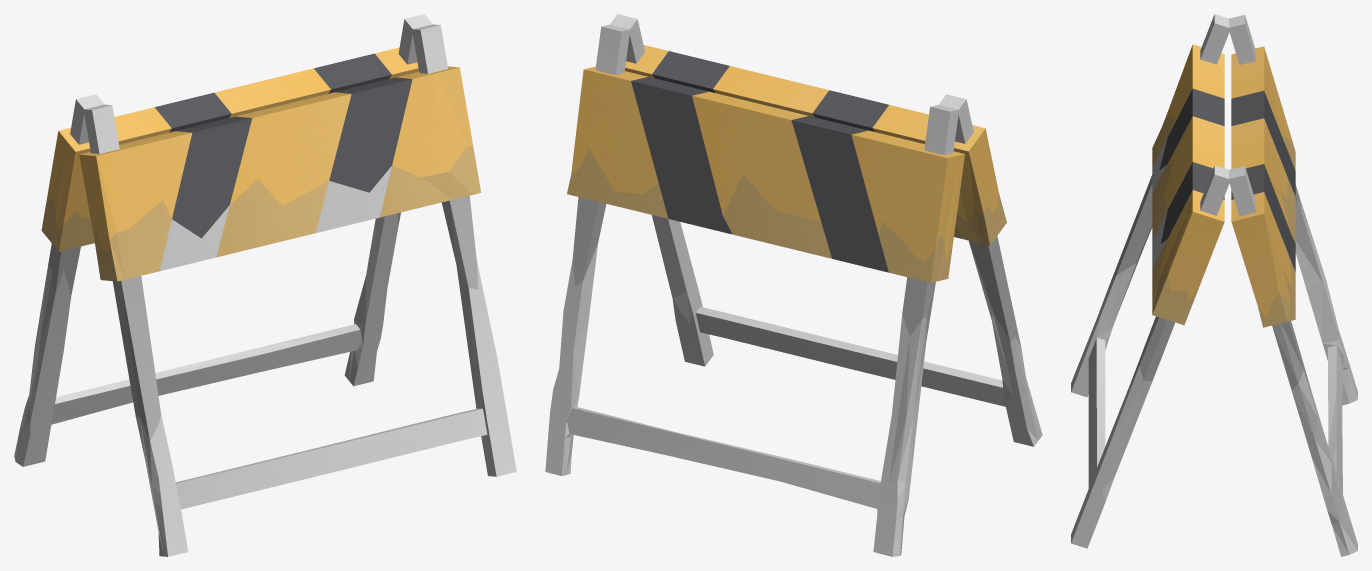
Rendered from roadbarrier1.glb.
3 views of the same model, side by side, from view 1: azimuth 30°, elevation 25°; view 2: azimuth 150°, elevation 25°; view 3: azimuth 270°, elevation 25° (orthographic). The views are drawn at different scales.
Parts seen in each view (by area): view 1: road_barrier_1; view 2: road_barrier_1; view 3: road_barrier_1.
Boxes of the visible parts, box(x1,y1,x2,y2) form: road_barrier_1: box(14, 14, 516, 556); road_barrier_1: box(545, 14, 1042, 556); road_barrier_1: box(1071, 14, 1357, 556).
Size of the model in its own units: 0.5443 by 0.5799 by 0.394.
Materials: 1 (1 with a texture image).
